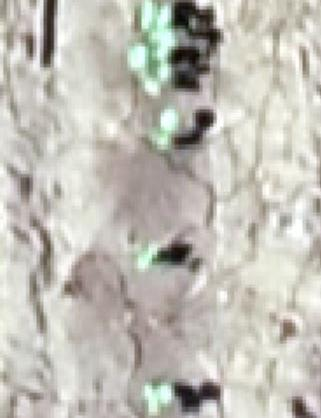cotton: (129, 48, 171, 85), (142, 382, 173, 413), (151, 111, 177, 146), (141, 2, 173, 28), (150, 32, 175, 57), (133, 247, 157, 269)
